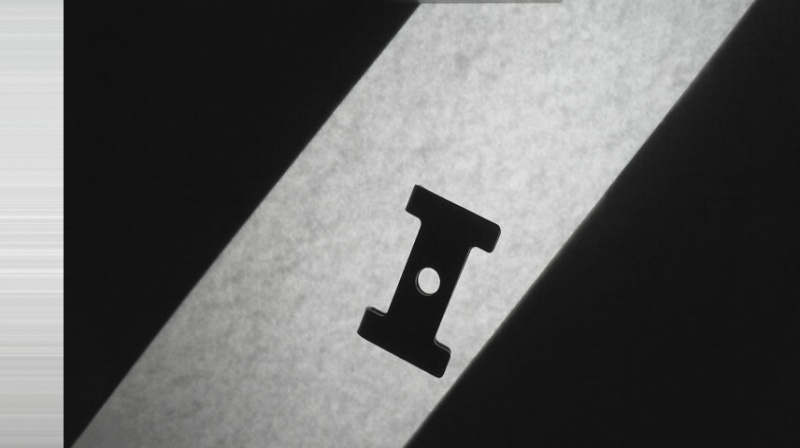O002: (354, 178, 504, 383)
